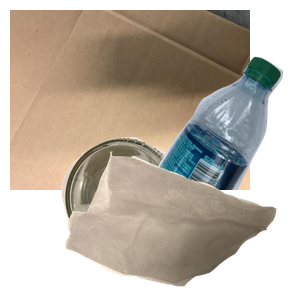cardboard: (10, 10, 250, 190)
glass: (59, 135, 254, 300)
plastic: (142, 54, 300, 234)
trash: (63, 149, 300, 300)
